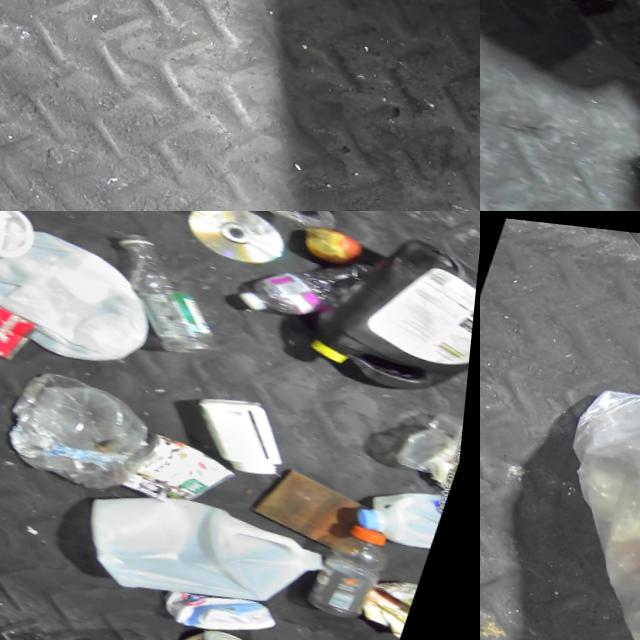can: (125, 418, 248, 513), (0, 280, 47, 362), (178, 607, 279, 640)
milk_jug: (74, 458, 344, 639), (0, 211, 176, 375), (359, 452, 457, 540)
non_white_jug: (307, 211, 480, 401)
plastic_bottle: (87, 216, 252, 361), (238, 215, 389, 334), (34, 366, 164, 459), (314, 504, 405, 616)
